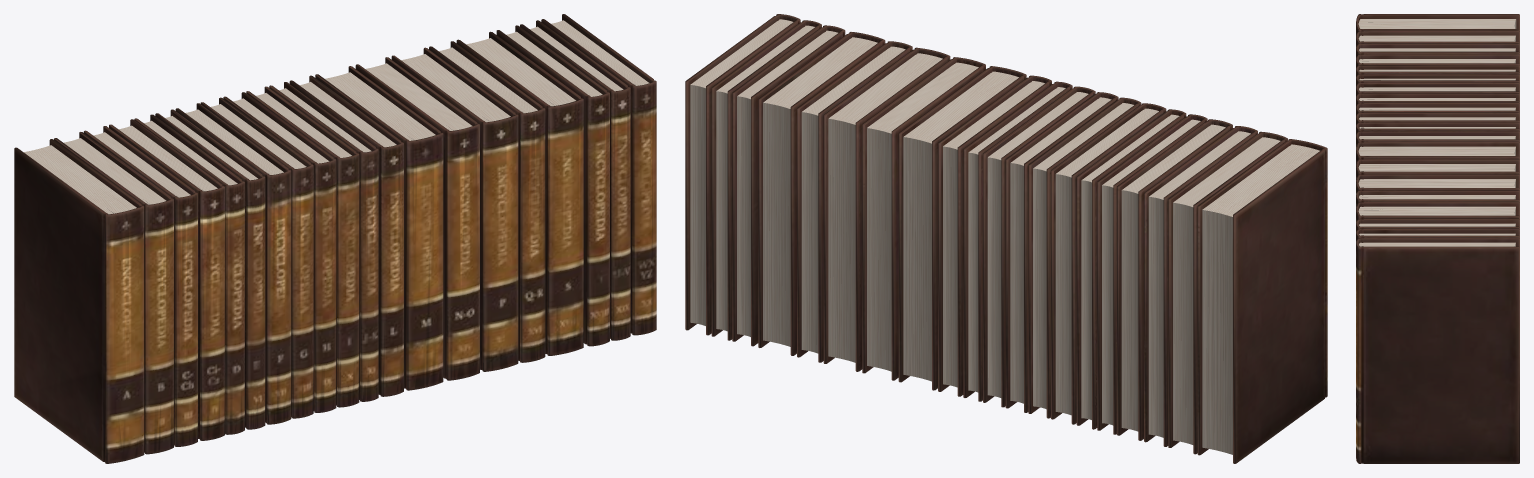
File: book_encyclopedia_set_01.glb
3 views of the same model, side by side, from view 1: azimuth 30°, elevation 25°; view 2: azimuth 150°, elevation 25°; view 3: azimuth 270°, elevation 25° (orthographic). The views are drawn at different scales.
Parts seen in each view (by area): view 1: book_encyclopedia_set_01_book01, book_encyclopedia_set_01_book13, book_encyclopedia_set_01_book15, book_encyclopedia_set_01_book17, book_encyclopedia_set_01_book14, book_encyclopedia_set_01_book02, book_encyclopedia_set_01_book16, book_encyclopedia_set_01_book04, book_encyclopedia_set_01_book18, book_encyclopedia_set_01_book20, book_encyclopedia_set_01_book07, book_encyclopedia_set_01_book12 (+8 smaller); view 2: book_encyclopedia_set_01_book01, book_encyclopedia_set_01_book13, book_encyclopedia_set_01_book15, book_encyclopedia_set_01_book17, book_encyclopedia_set_01_book14, book_encyclopedia_set_01_book02, book_encyclopedia_set_01_book04, book_encyclopedia_set_01_book16, book_encyclopedia_set_01_book20, book_encyclopedia_set_01_book18, book_encyclopedia_set_01_book07, book_encyclopedia_set_01_book12 (+8 smaller); view 3: book_encyclopedia_set_01_book20, book_encyclopedia_set_01_book13, book_encyclopedia_set_01_book01, book_encyclopedia_set_01_book17, book_encyclopedia_set_01_book15, book_encyclopedia_set_01_book14, book_encyclopedia_set_01_book02, book_encyclopedia_set_01_book16, book_encyclopedia_set_01_book03, book_encyclopedia_set_01_book12, book_encyclopedia_set_01_book04, book_encyclopedia_set_01_book07 (+8 smaller).
Part boxes in pixels (x1,y1,x2,y2): book_encyclopedia_set_01_book01: (14, 139, 144, 463); book_encyclopedia_set_01_book13: (315, 66, 443, 390); book_encyclopedia_set_01_book15: (391, 47, 518, 371); book_encyclopedia_set_01_book17: (456, 31, 583, 355); book_encyclopedia_set_01_book14: (355, 57, 479, 380); book_encyclopedia_set_01_book02: (54, 132, 173, 454); book_encyclopedia_set_01_book16: (429, 41, 545, 362); book_encyclopedia_set_01_book04: (109, 119, 224, 440); book_encyclopedia_set_01_book18: (496, 25, 609, 346); book_encyclopedia_set_01_book20: (541, 14, 656, 335); book_encyclopedia_set_01_book07: (175, 103, 291, 424); book_encyclopedia_set_01_book12: (289, 75, 403, 396); book_encyclopedia_set_01_book01: (1197, 139, 1327, 463); book_encyclopedia_set_01_book13: (898, 66, 1026, 390); book_encyclopedia_set_01_book15: (823, 47, 950, 371); book_encyclopedia_set_01_book17: (758, 32, 885, 355); book_encyclopedia_set_01_book14: (862, 57, 985, 380); book_encyclopedia_set_01_book02: (1168, 131, 1287, 454); book_encyclopedia_set_01_book04: (1117, 119, 1232, 440); book_encyclopedia_set_01_book16: (797, 41, 912, 362); book_encyclopedia_set_01_book20: (685, 14, 800, 335); book_encyclopedia_set_01_book18: (732, 25, 845, 346); book_encyclopedia_set_01_book07: (1051, 103, 1166, 424); book_encyclopedia_set_01_book12: (938, 75, 1051, 396); book_encyclopedia_set_01_book20: (1356, 238, 1519, 463); book_encyclopedia_set_01_book13: (1356, 142, 1519, 165); book_encyclopedia_set_01_book01: (1356, 14, 1519, 35); book_encyclopedia_set_01_book17: (1356, 202, 1519, 221); book_encyclopedia_set_01_book15: (1356, 174, 1519, 194); book_encyclopedia_set_01_book14: (1356, 159, 1519, 180); book_encyclopedia_set_01_book02: (1356, 30, 1519, 47); book_encyclopedia_set_01_book16: (1356, 190, 1519, 222); book_encyclopedia_set_01_book03: (1356, 43, 1519, 58); book_encyclopedia_set_01_book12: (1356, 131, 1519, 149); book_encyclopedia_set_01_book04: (1356, 54, 1519, 69); book_encyclopedia_set_01_book07: (1356, 82, 1519, 96).
Bounding box in the file's own units: 0.5513 × 0.2374 × 0.1631.
2 materials, 2 textured.
